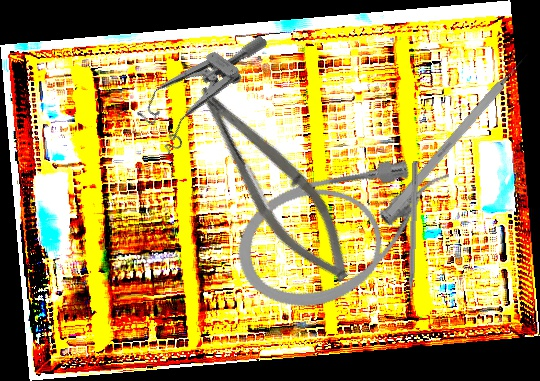Cannula: (220, 134, 477, 328)
Chopper: (399, 160, 419, 310)
Hook Surgical: (385, 51, 532, 217)
Micro Scissor: (172, 74, 372, 296)
Speculum: (128, 4, 269, 163)
